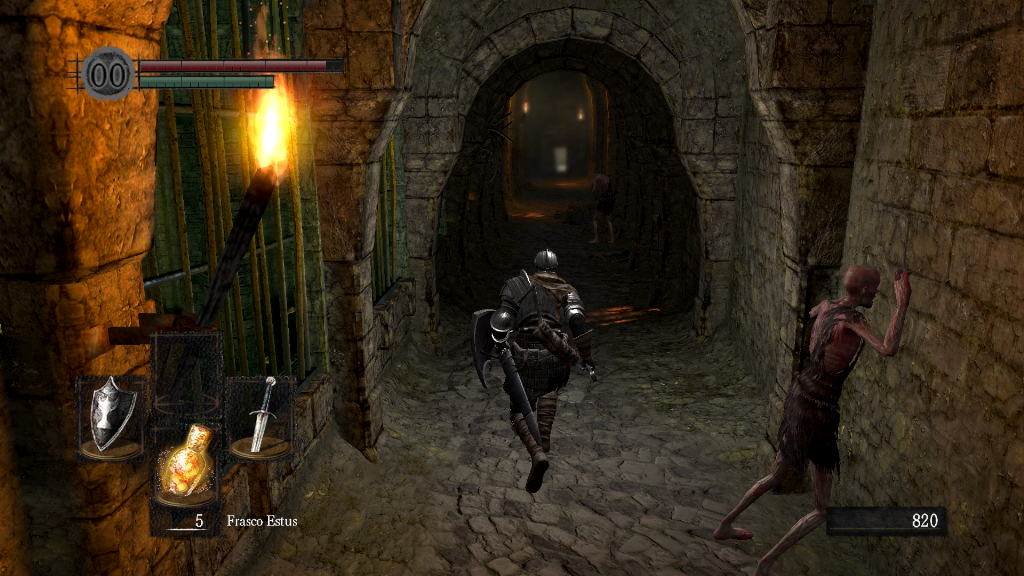health: (138, 58, 343, 71)
hollow: (715, 265, 915, 576), (588, 173, 616, 244)
humanity: (80, 45, 136, 102)
player: (469, 250, 600, 495)
souls: (825, 506, 945, 536)
stamina: (138, 74, 274, 88)
